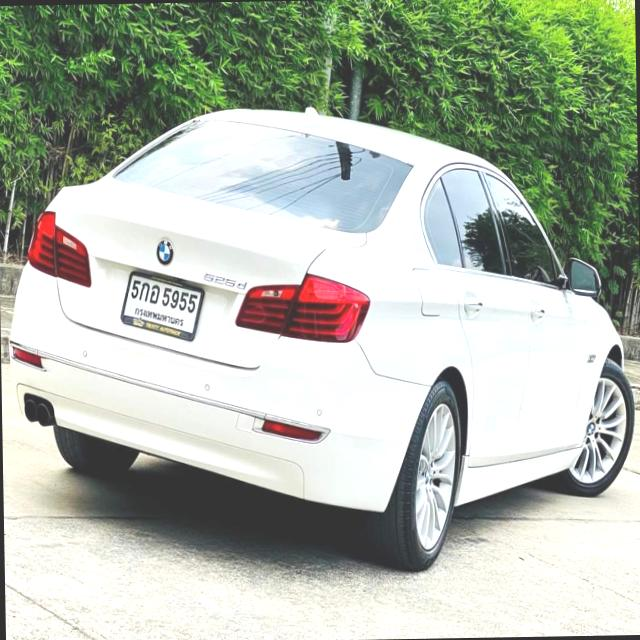license_plate: (116, 262, 207, 346)
